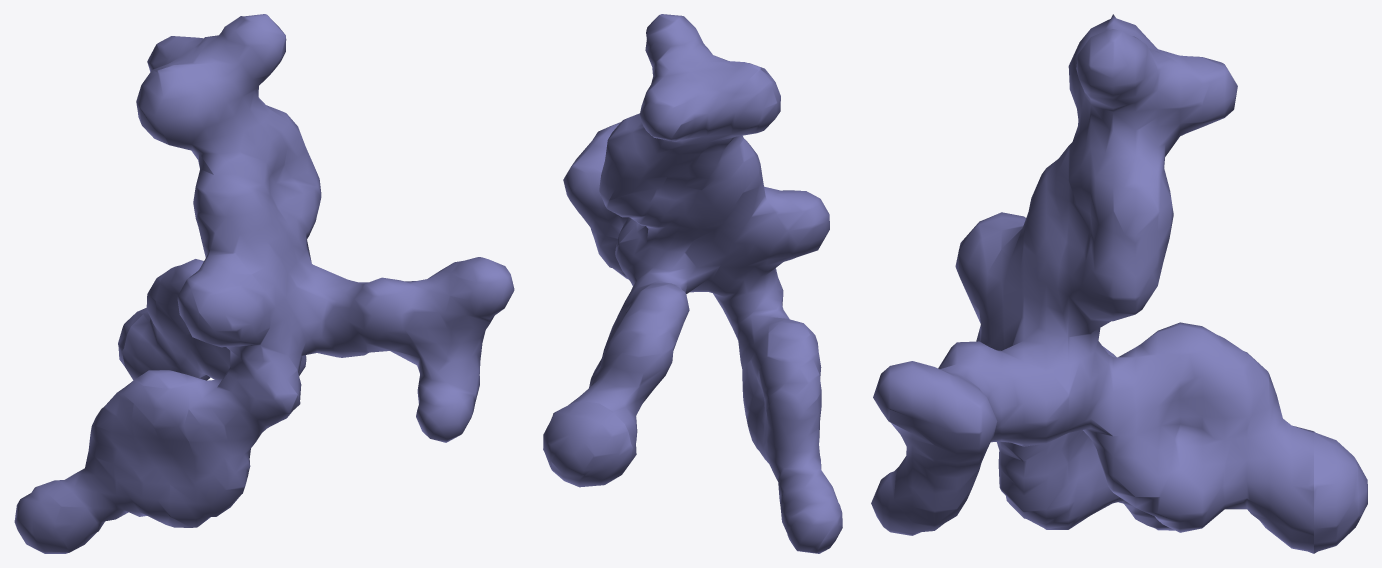
Rendered from 7bmg-map.glb.
3 renders of one model, left to right at view 1: azimuth 30°, elevation 25°; view 2: azimuth 150°, elevation 25°; view 3: azimuth 270°, elevation 25°, orthographic. The views are drawn at different scales.
Parts seen in each view (by area): view 1: Test Export; view 2: Test Export; view 3: Test Export.
Boxes of the visible parts, x1,y1,x2,y2 form: Test Export: (14,14,514,553); Test Export: (543,14,842,553); Test Export: (871,14,1367,553).
Size of the model in its own units: 10.65 by 13.66 by 10.36.
